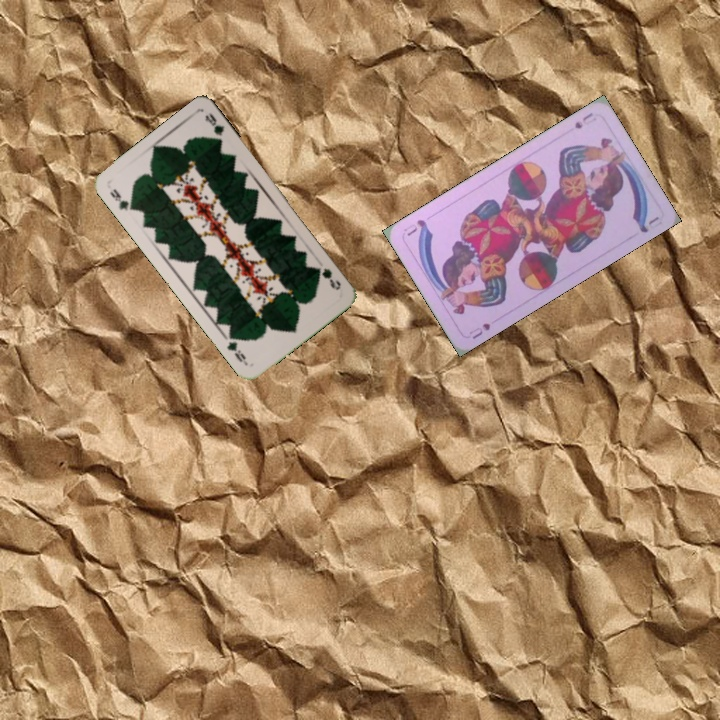G9: (312, 263, 344, 293), (106, 185, 138, 213)
SU: (570, 108, 599, 132), (465, 319, 493, 342)
